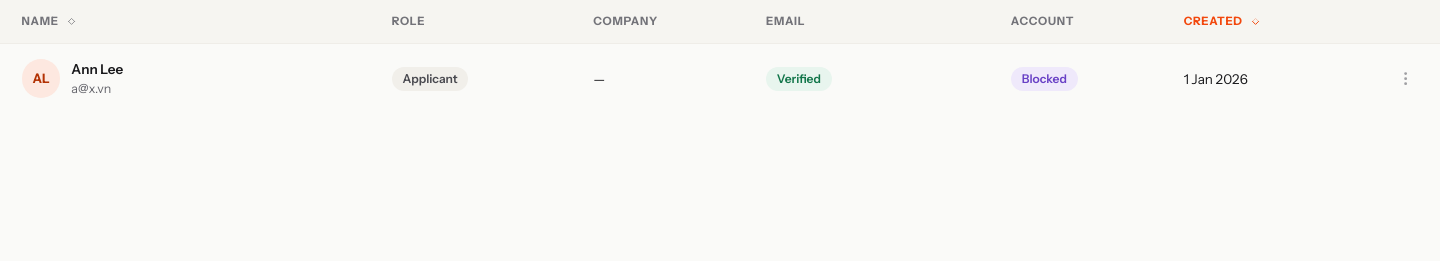
Users table row menu by status › offers Reactivate for blocked
The width and height of the screenshot is (1440, 261).
Click the button named "Actions for Ann Lee". click: (1405, 79)
box: [1388,62,1423,96]
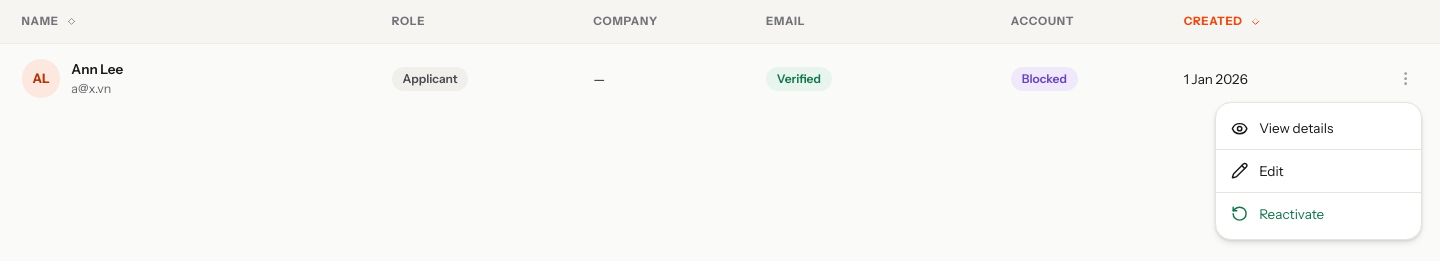
Result: the menu item "Reactivate" is shown at [1216,192,1421,235]
